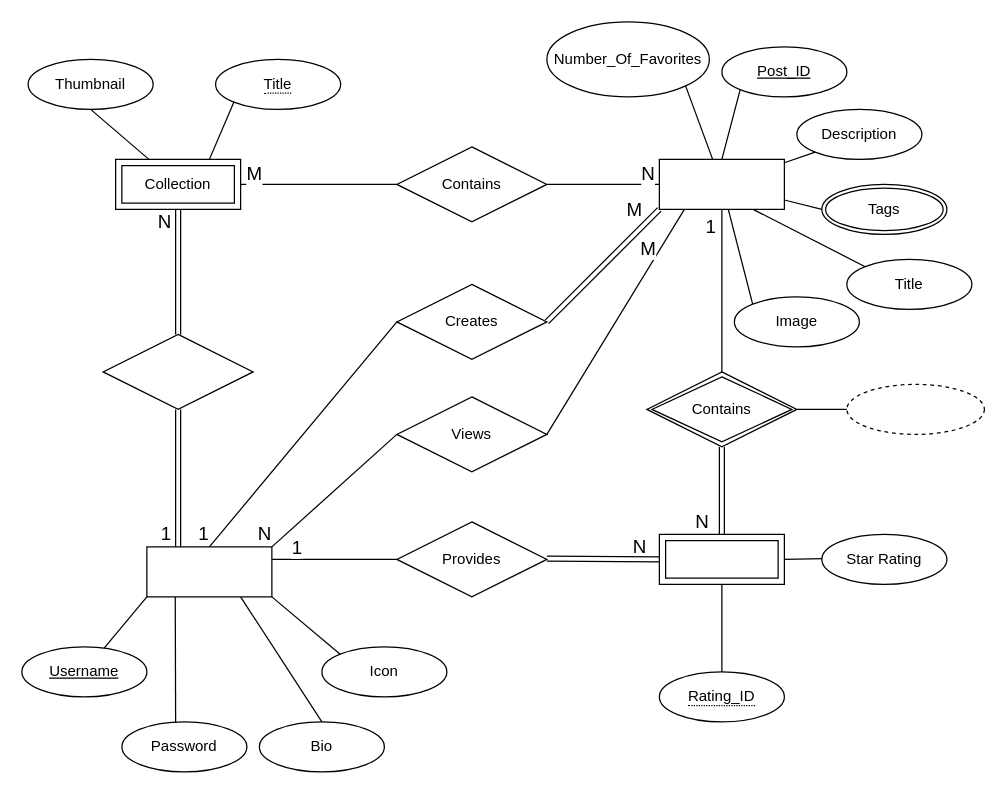
This 1006x794 diagram has some shape labels left out. Each missing label, with the box of its shape:
Has: (102, 333, 253, 409)
Post: (658, 158, 784, 209)
Rating: (658, 533, 784, 584)
Rating_Average: (846, 383, 984, 434)
User: (146, 546, 272, 597)
